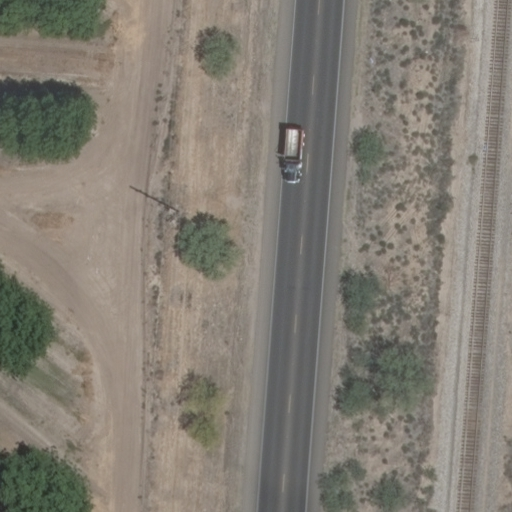DT: (158, 194, 183, 220)
